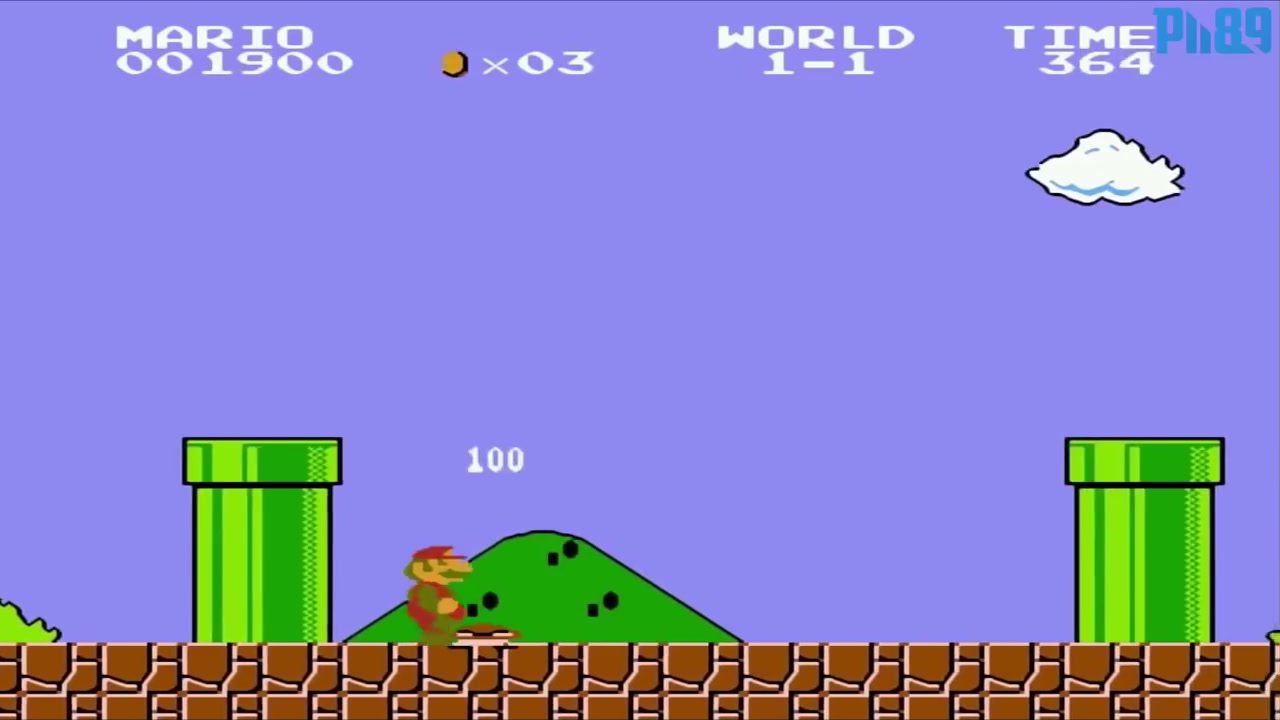mario: (398, 540, 474, 645)
